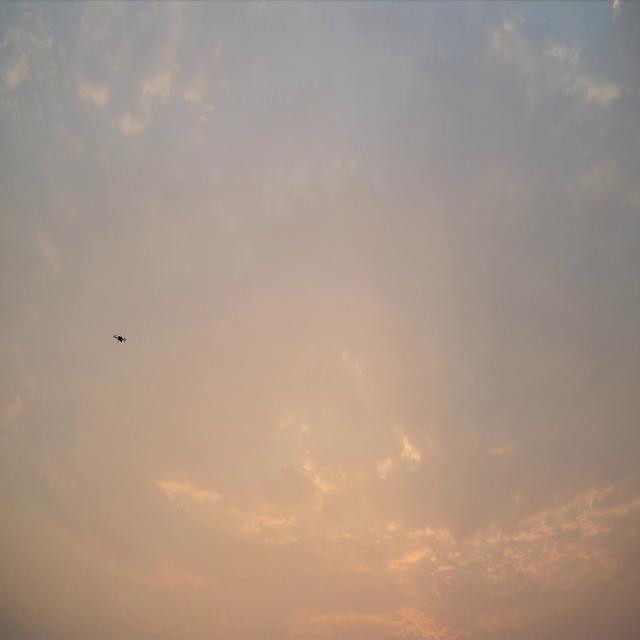UAV: (112, 334, 126, 343)
